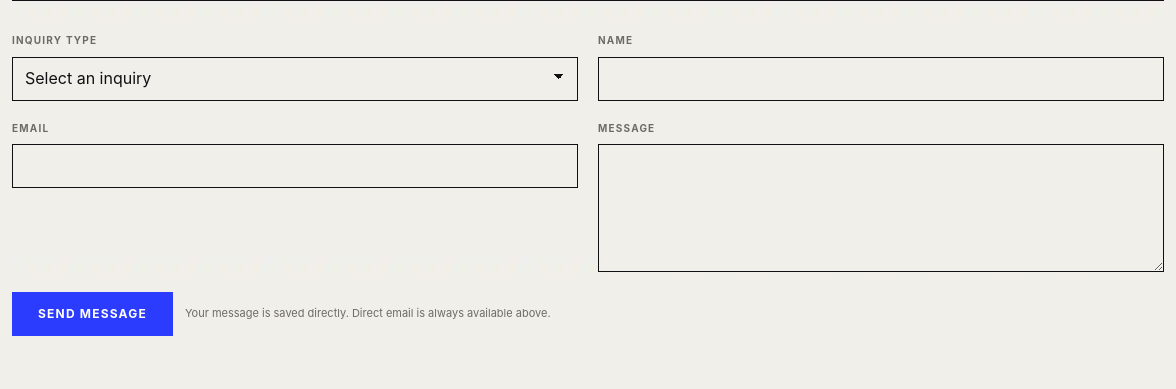
Phase 6 contact form › announces success with no mailto fallback
Select "Freelance project" in the dropdown labelled "Inquiry type". click: (295, 78)
box: [12,56,578,100]
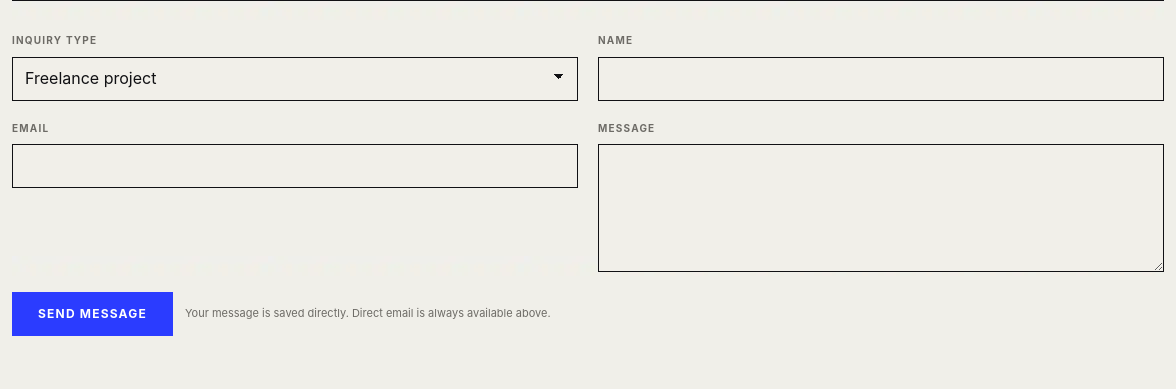
Type "Ada Lovelace" into the field labelled "Name". click: (881, 78)
box: [598,56,1164,100]
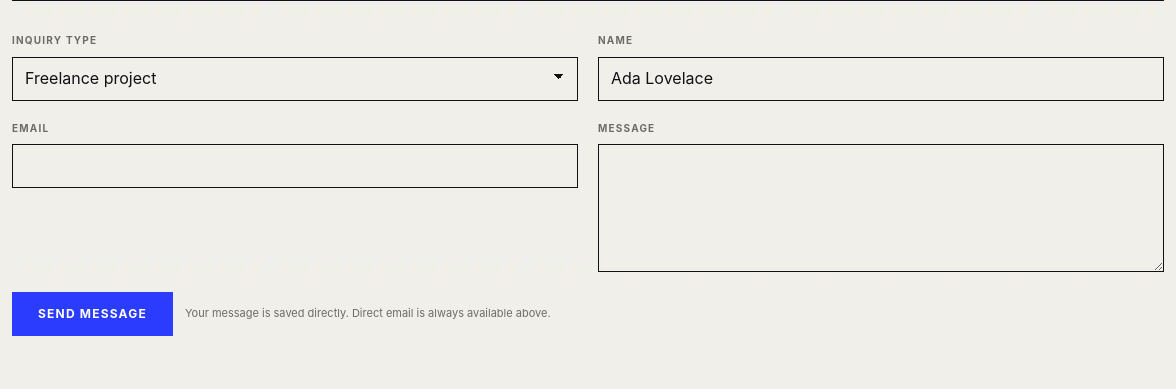
Type "ada@example.com" into the field labelled "Email". click: (295, 166)
box: [12,144,578,188]
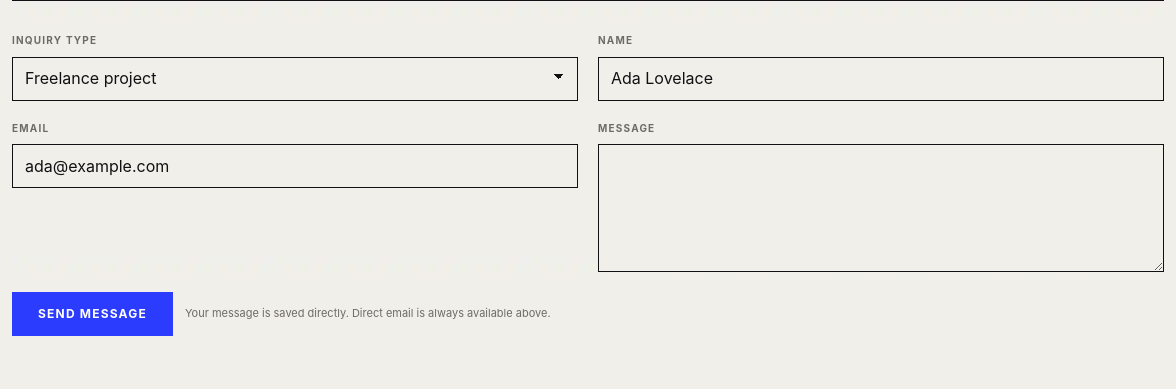
Type "Hello there" into the text box labelled "Message". click: (881, 208)
box: [598,144,1164,272]
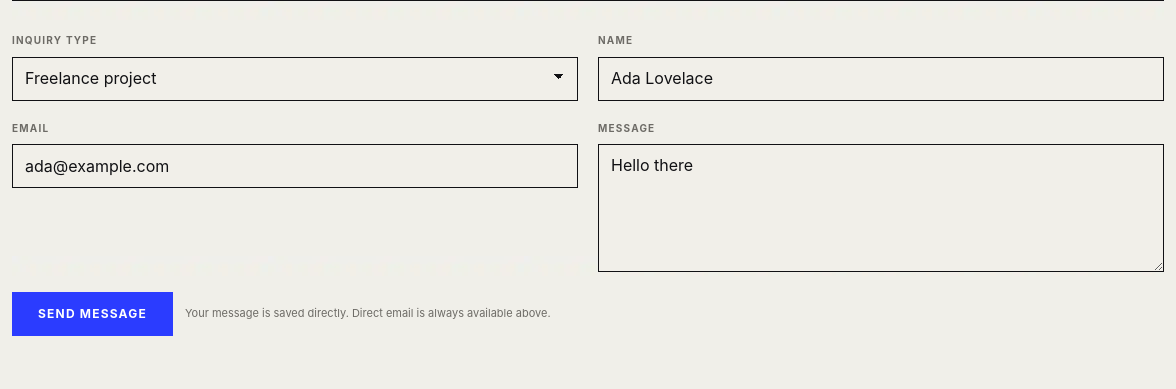
Click the button "Send message". click: (92, 314)
box: [12,292,173,336]
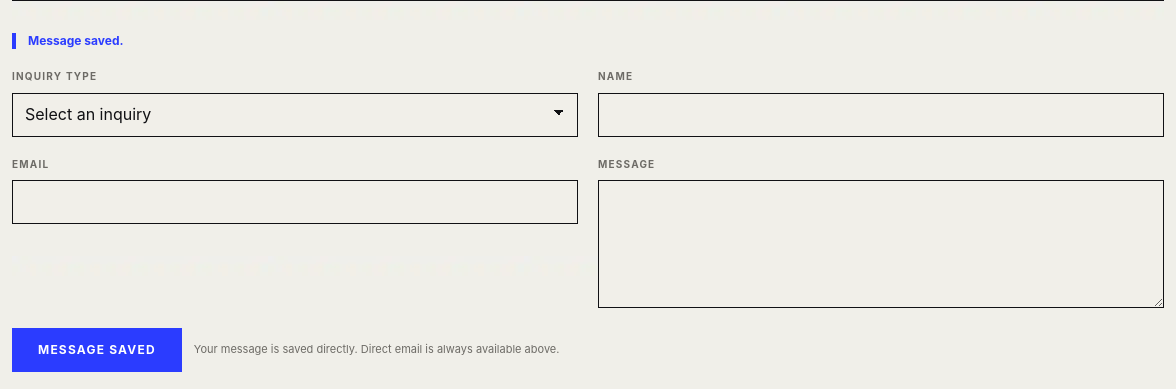
Now the message reads "Message saved.", box [28,33,124,48]
